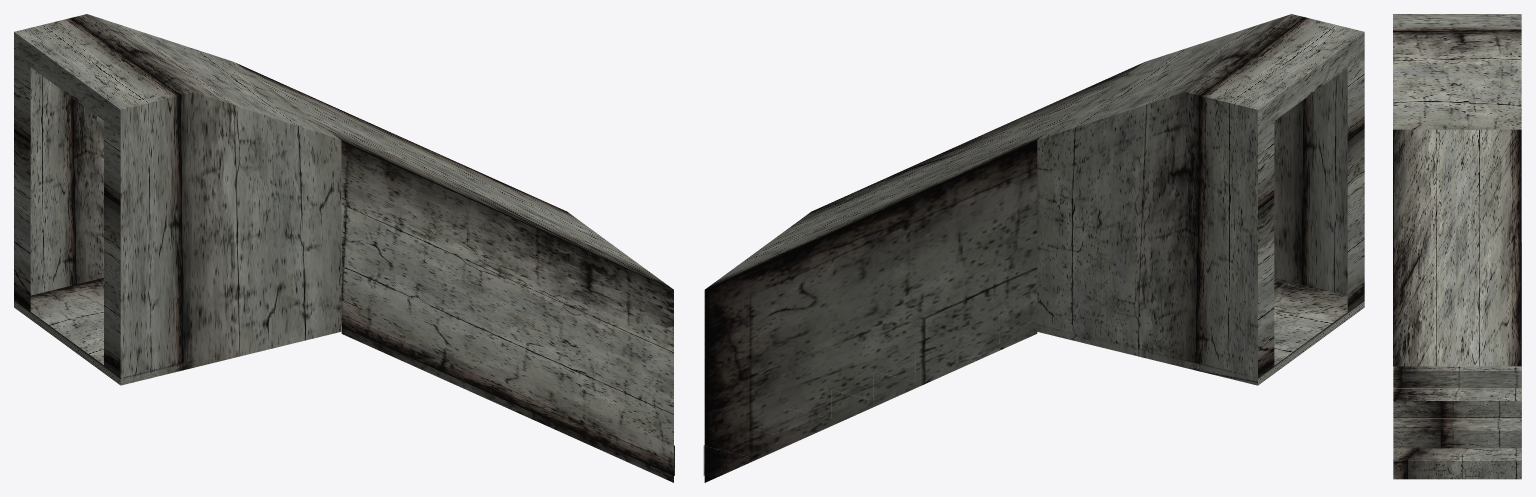
File: EntradaCompleta.glb
The picture shows the model from 3 angles, left to right: view 1: azimuth 30°, elevation 25°; view 2: azimuth 150°, elevation 25°; view 3: azimuth 270°, elevation 25°; orthographic projection. The views are drawn at different scales.
Parts seen in each view (by area): view 1: PasoEstar.001, Cubo.003; view 2: PasoEstar.001, Cubo.003; view 3: Cubo.003, PasoEstar.001, Cubo.002.
Boxes of the visible parts, x1,y1,x2,y2 form: PasoEstar.001: [14, 14, 341, 385]; Cubo.003: [236, 63, 673, 482]; PasoEstar.001: [1037, 14, 1364, 385]; Cubo.003: [704, 63, 1142, 482]; Cubo.003: [1393, 129, 1521, 366]; PasoEstar.001: [1393, 14, 1521, 129]; Cubo.002: [1393, 243, 1521, 479].
Bounding box in the file's own units: 15 × 13.14 × 5.01.
2 materials, 2 textured.
